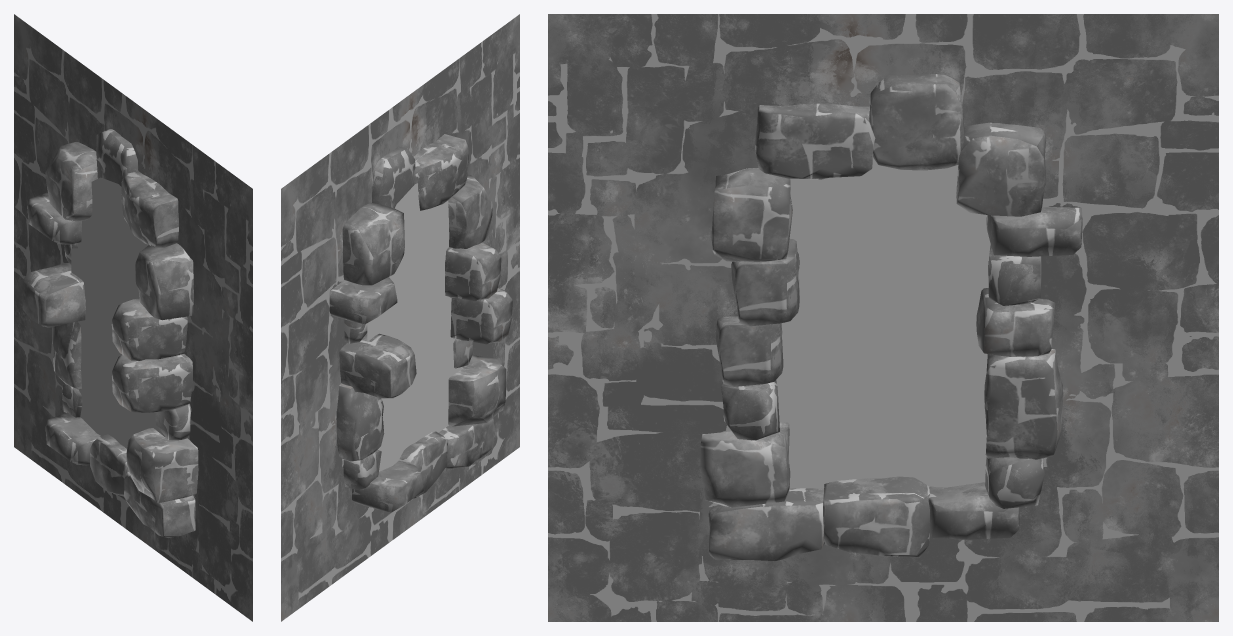
Rendered from Wall_Window_01.fbx.
3 renders of one model, left to right at view 1: azimuth 30°, elevation 25°; view 2: azimuth 150°, elevation 25°; view 3: azimuth 270°, elevation 25°, orthographic. The views are drawn at different scales.
Visible parts, largest first — view 1: Wall_with_Window, rock_1; view 2: Wall_with_Window, rock_1; view 3: Wall_with_Window, rock_1.
Part boxes in pixels (box(x1,y1,x2,y2)): Wall_with_Window: box(14, 14, 252, 621); rock_1: box(22, 129, 198, 537); Wall_with_Window: box(281, 14, 519, 621); rock_1: box(329, 134, 512, 512); Wall_with_Window: box(548, 14, 1218, 621); rock_1: box(700, 74, 1082, 560).
Size of the model in its own units: 1.01 by 5 by 5.
